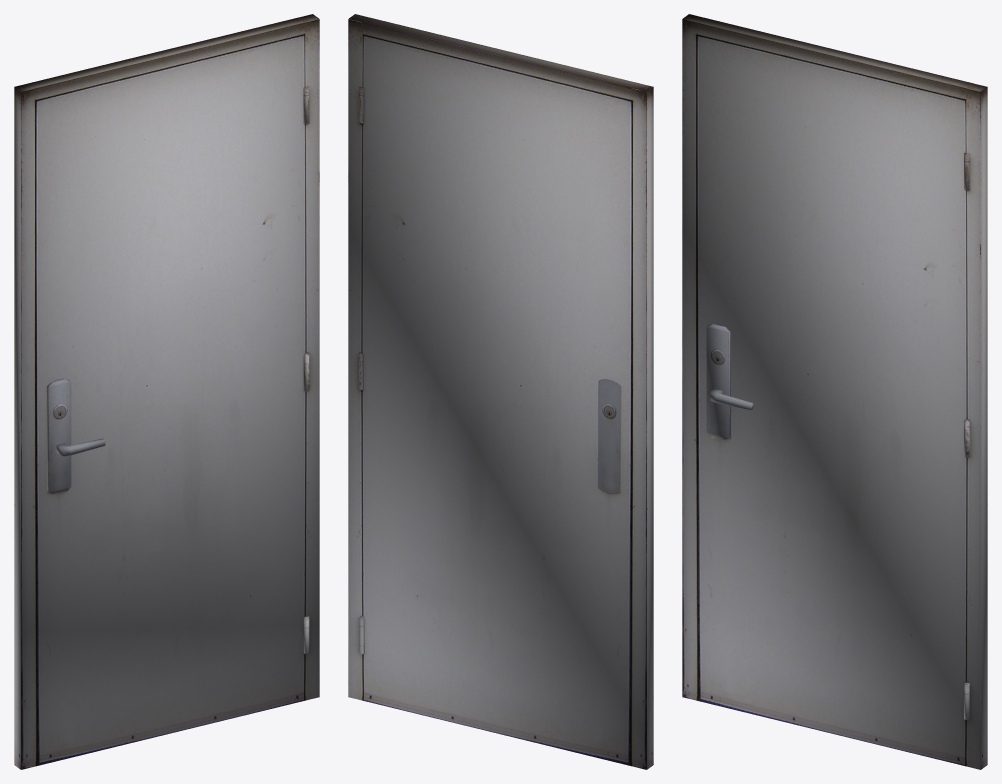
File: Door.fbx
3 renders of one model, left to right at view 1: azimuth 30°, elevation 25°; view 2: azimuth 150°, elevation 25°; view 3: azimuth 330°, elevation 25°, orthographic.
Parts seen in each view (by area): view 1: Mesh; view 2: Mesh; view 3: Mesh.
Part boxes in pixels (bbox=[...]): Mesh: bbox=[14, 14, 319, 769]; Mesh: bbox=[348, 14, 653, 769]; Mesh: bbox=[682, 14, 987, 769].
Size of the model in its own units: 100 by 217 by 8.7.
